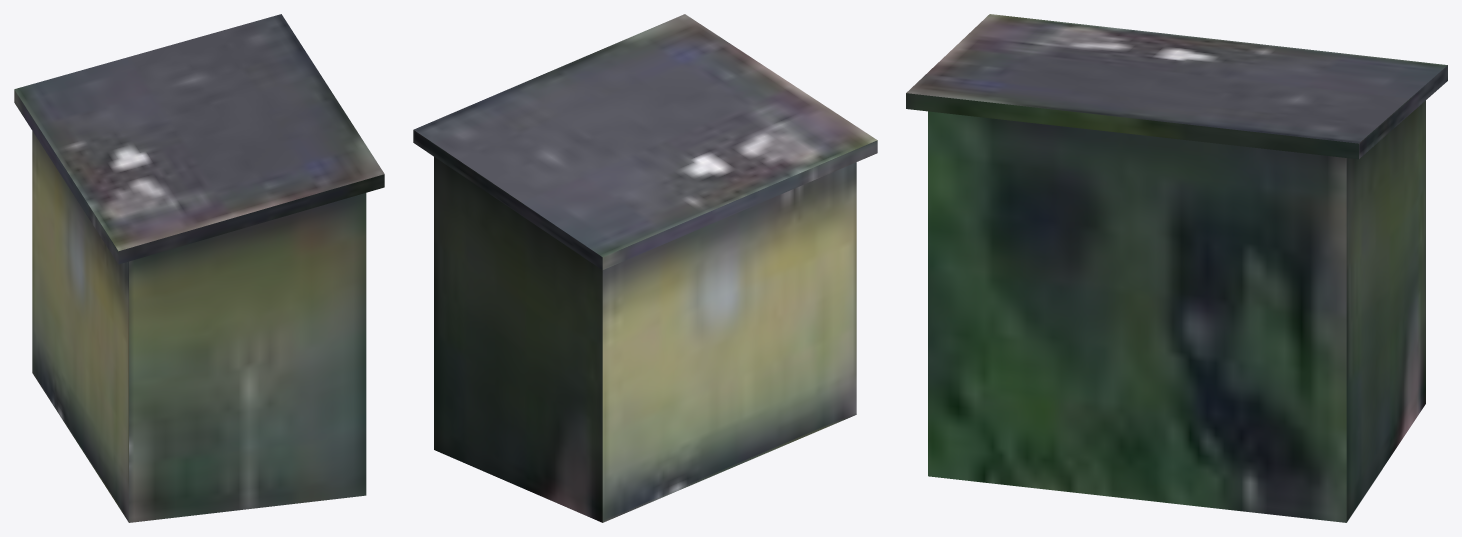
3 renders of one model, left to right at view 1: azimuth 30°, elevation 25°; view 2: azimuth 150°, elevation 25°; view 3: azimuth 270°, elevation 25°, orthographic. The views are drawn at different scales.
Parts seen in each view (by area): view 1: B289094035001062A0; view 2: B289094035001062A0; view 3: B289094035001062A0.
Part boxes in pixels (x1,y1,x2,y2): B289094035001062A0: [14, 14, 384, 522]; B289094035001062A0: [413, 14, 877, 522]; B289094035001062A0: [906, 14, 1447, 522].
Size of the model in its own units: 3.21 by 3.14 by 3.97.
1 material, 1 textured.
